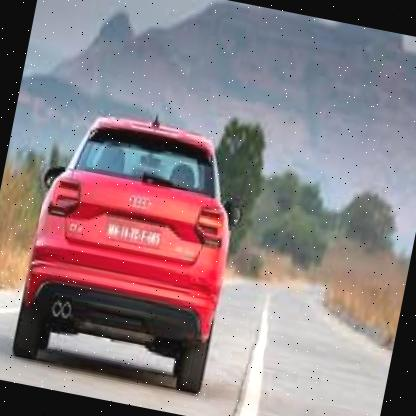car: (0, 96, 257, 405)
